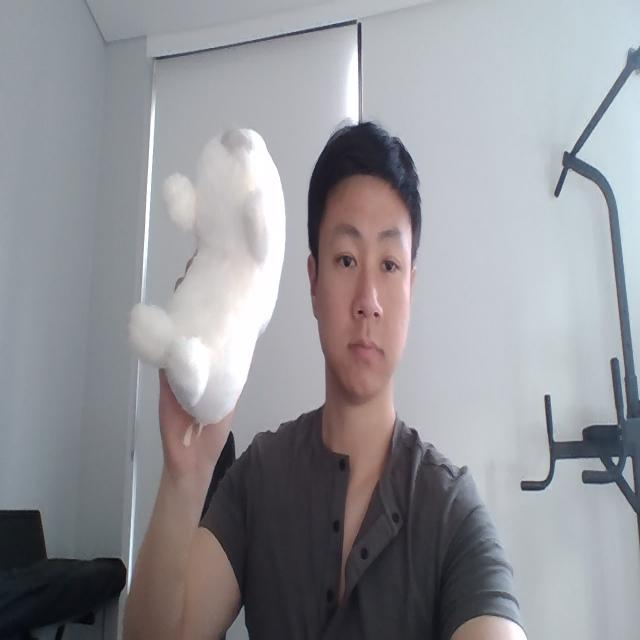seal_bb: (127, 125, 286, 428)
